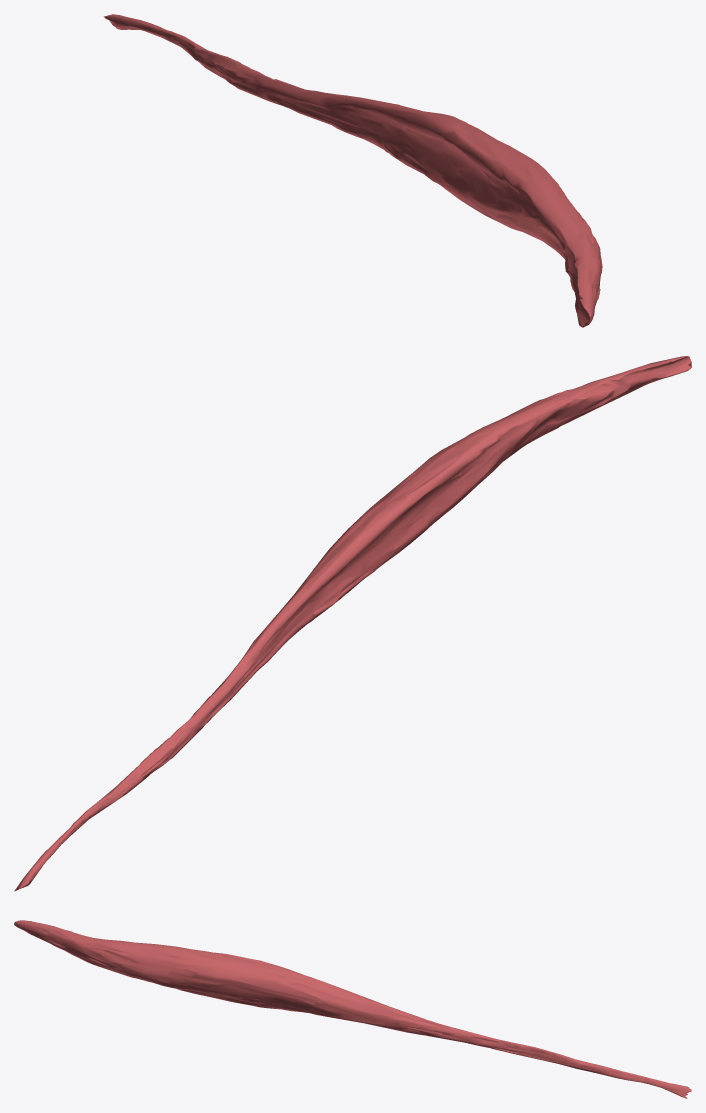
3 renders of one model, top to bottom at view 1: azimuth 30°, elevation 25°; view 2: azimuth 150°, elevation 25°; view 3: azimuth 270°, elevation 25°, orthographic. The views are drawn at different scales.
Parts seen in each view (by area): view 1: 左侧桡侧腕长伸肌; view 2: 左侧桡侧腕长伸肌; view 3: 左侧桡侧腕长伸肌.
Boxes of the visible parts, x1=… form: 左侧桡侧腕长伸肌: x1=103, y1=14, x2=602, y2=327; 左侧桡侧腕长伸肌: x1=14, y1=356, x2=691, y2=891; 左侧桡侧腕长伸肌: x1=14, y1=920, x2=691, y2=1098.
Bounding box in the file's own units: 0.088 × 0.1035 × 0.4908.
